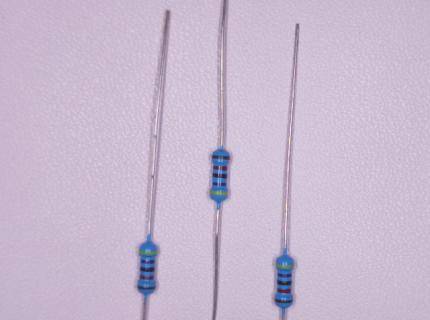Black band: (277, 279, 292, 286), (140, 266, 155, 272), (212, 173, 227, 178)
Brown band: (274, 298, 293, 304), (212, 154, 230, 160), (138, 285, 155, 290)
Red band: (140, 274, 155, 280), (277, 288, 291, 294), (213, 166, 227, 171)
Violet band: (277, 273, 292, 278), (141, 259, 155, 264), (212, 181, 226, 186)
Yellow band: (275, 263, 294, 269), (139, 250, 157, 255), (210, 190, 228, 195)
